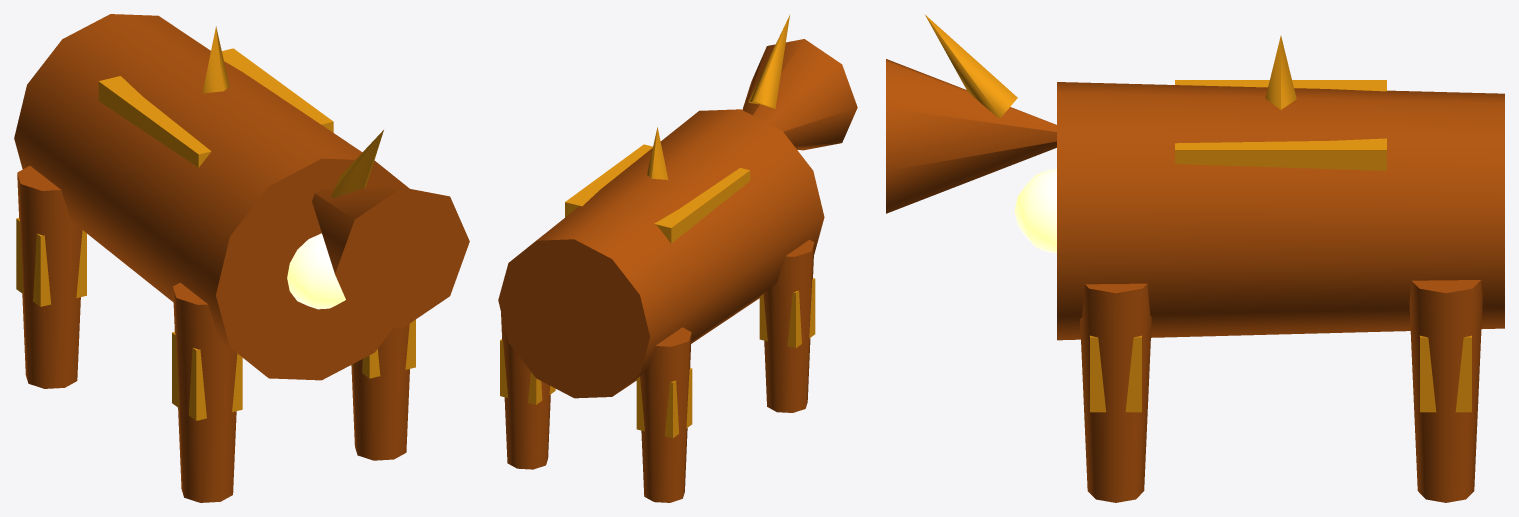
The model's file is mount_fenrir_golden.glb.
The picture shows the model from 3 angles, left to right: view 1: azimuth 30°, elevation 25°; view 2: azimuth 150°, elevation 25°; view 3: azimuth 270°, elevation 25°; orthographic projection. The views are drawn at different scales.
Visible parts, largest first — view 1: MOUNT_FENRIR_GOLDEN; view 2: MOUNT_FENRIR_GOLDEN; view 3: MOUNT_FENRIR_GOLDEN.
Part boxes in pixels (bbox=[...]): MOUNT_FENRIR_GOLDEN: bbox=[14, 14, 469, 502]; MOUNT_FENRIR_GOLDEN: bbox=[498, 15, 857, 502]; MOUNT_FENRIR_GOLDEN: bbox=[886, 15, 1504, 502].
Size of the model in its own units: 1.22 by 2.02 by 2.62.
